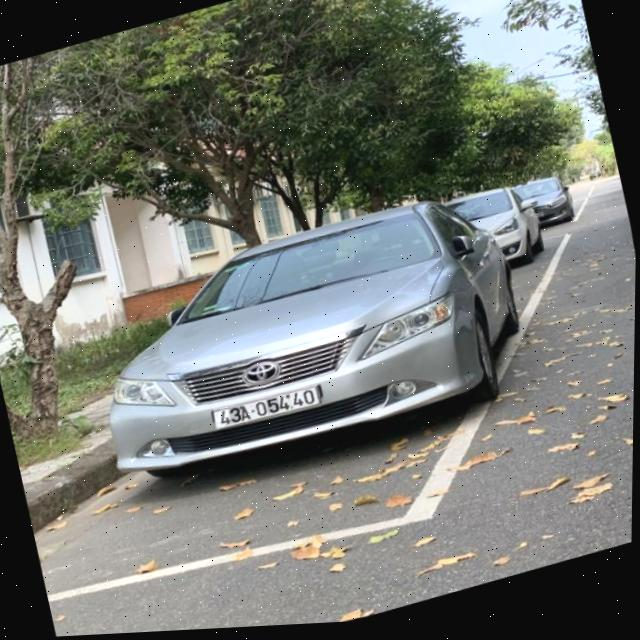car: (84, 173, 549, 507), (453, 178, 551, 284), (512, 166, 575, 235)
plate: (201, 371, 333, 441)
